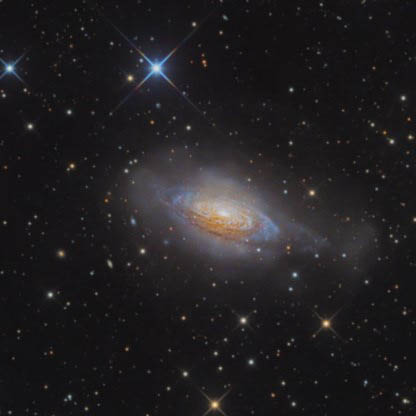NGC 3521: (93, 122, 323, 333)
